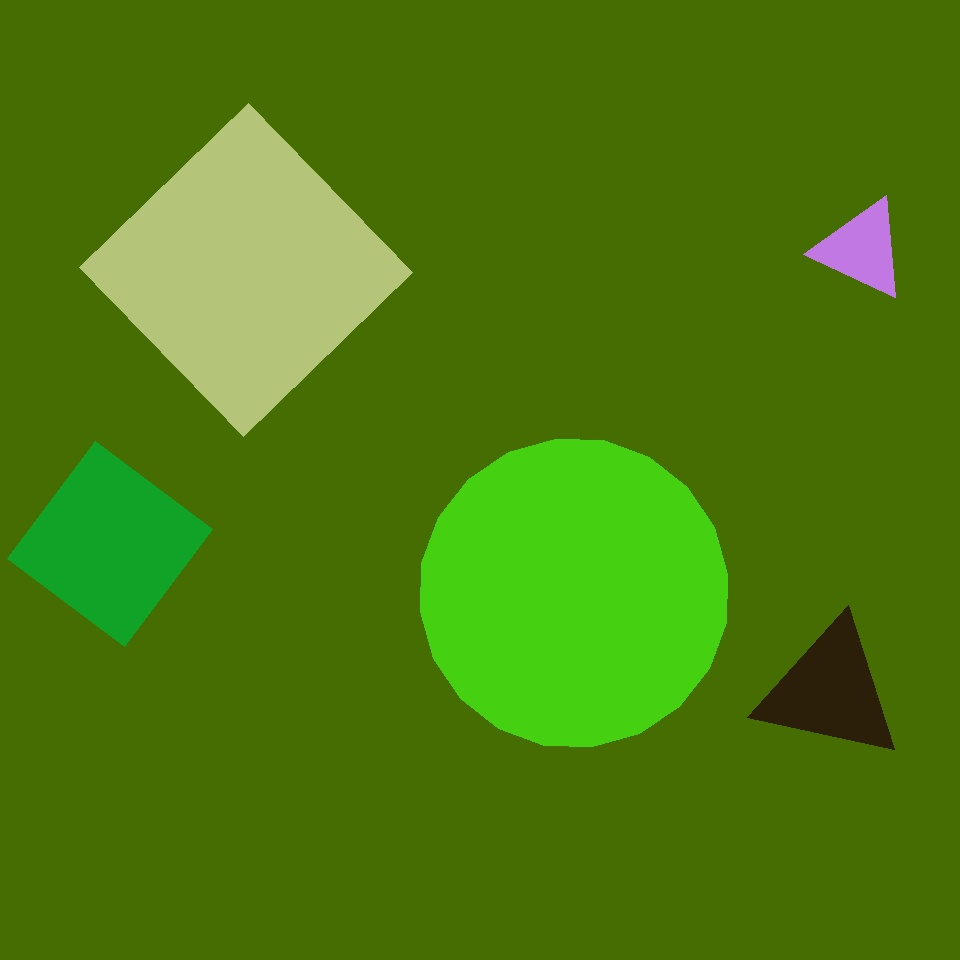circle: (756, 619, 904, 763), (816, 198, 908, 300)
square: (79, 104, 412, 436), (8, 442, 212, 646), (120, 660, 283, 823), (9, 402, 133, 527)
triangle: (396, 14, 740, 358), (485, 57, 828, 400), (420, 439, 728, 746)
